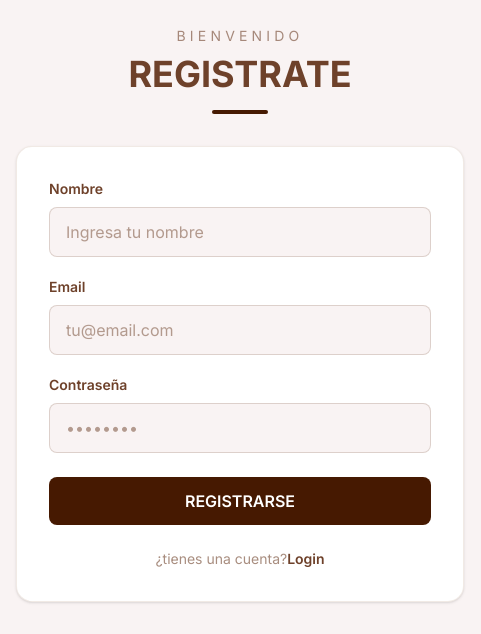
Test: Register › exige todos los campos
Type "Ana" into the field labelled "Nombre" at point(240, 232), box [49, 207, 431, 257]
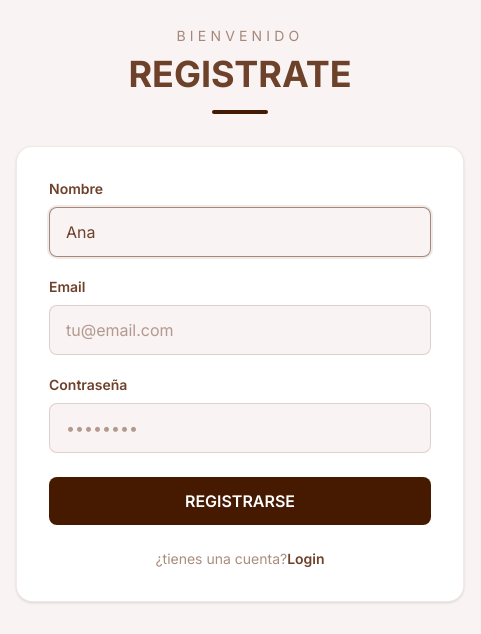
Type "1234" into the password field labelled "Contraseña" at point(240, 428), box [49, 403, 431, 453]
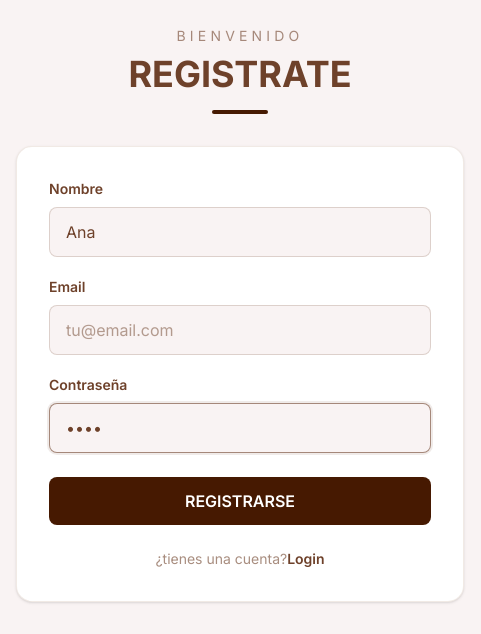
Click the button "REGISTRARSE" at point(240, 501), box [49, 477, 431, 525]
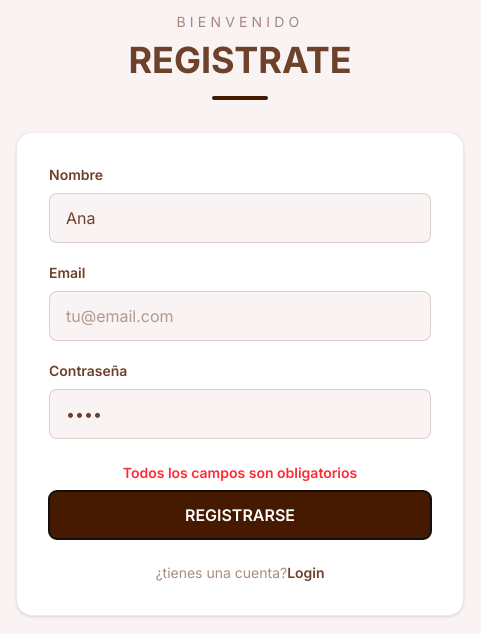
Check: the text "Todos los campos son obligatorios" is shown, box [123, 464, 357, 481]
